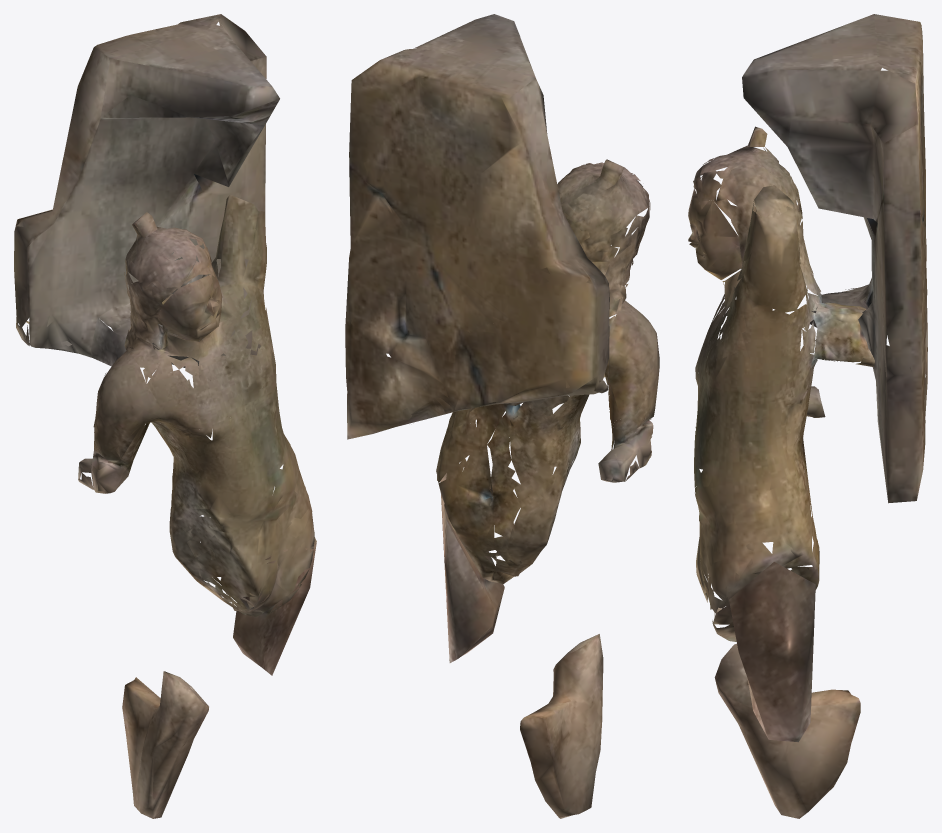
File: krishna-govardhan-lo.glb
3 views of the same model, side by side, from view 1: azimuth 30°, elevation 25°; view 2: azimuth 150°, elevation 25°; view 3: azimuth 270°, elevation 25° (orthographic). The views are drawn at different scales.
Visible parts, largest first — view 1: Krishna Thigh Patch; view 2: Krishna Thigh Patch; view 3: Krishna Thigh Patch.
Part boxes in pixels (left/top/right/bottom): Krishna Thigh Patch: left=14, top=14, right=316, bottom=818; Krishna Thigh Patch: left=345, top=14, right=659, bottom=818; Krishna Thigh Patch: left=688, top=14, right=927, bottom=818.
Bounding box in the file's own units: 0.6877 × 2.03 × 0.5483.
Materials: 1 (1 with a texture image).
